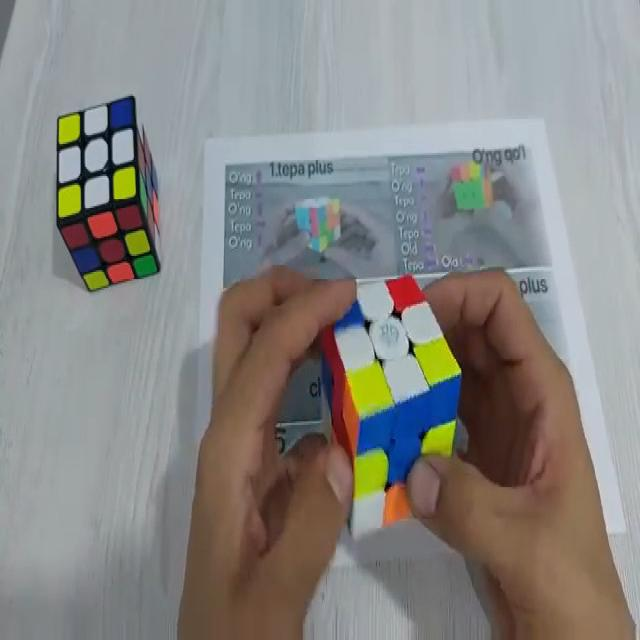Rub: (318, 270, 461, 538), (55, 89, 163, 294)
